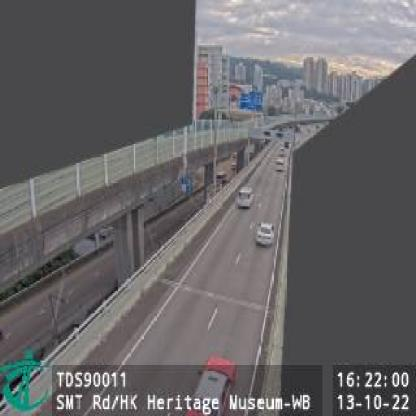Car: (177, 353, 240, 414), (254, 220, 274, 248), (237, 188, 256, 209), (274, 160, 282, 171)
